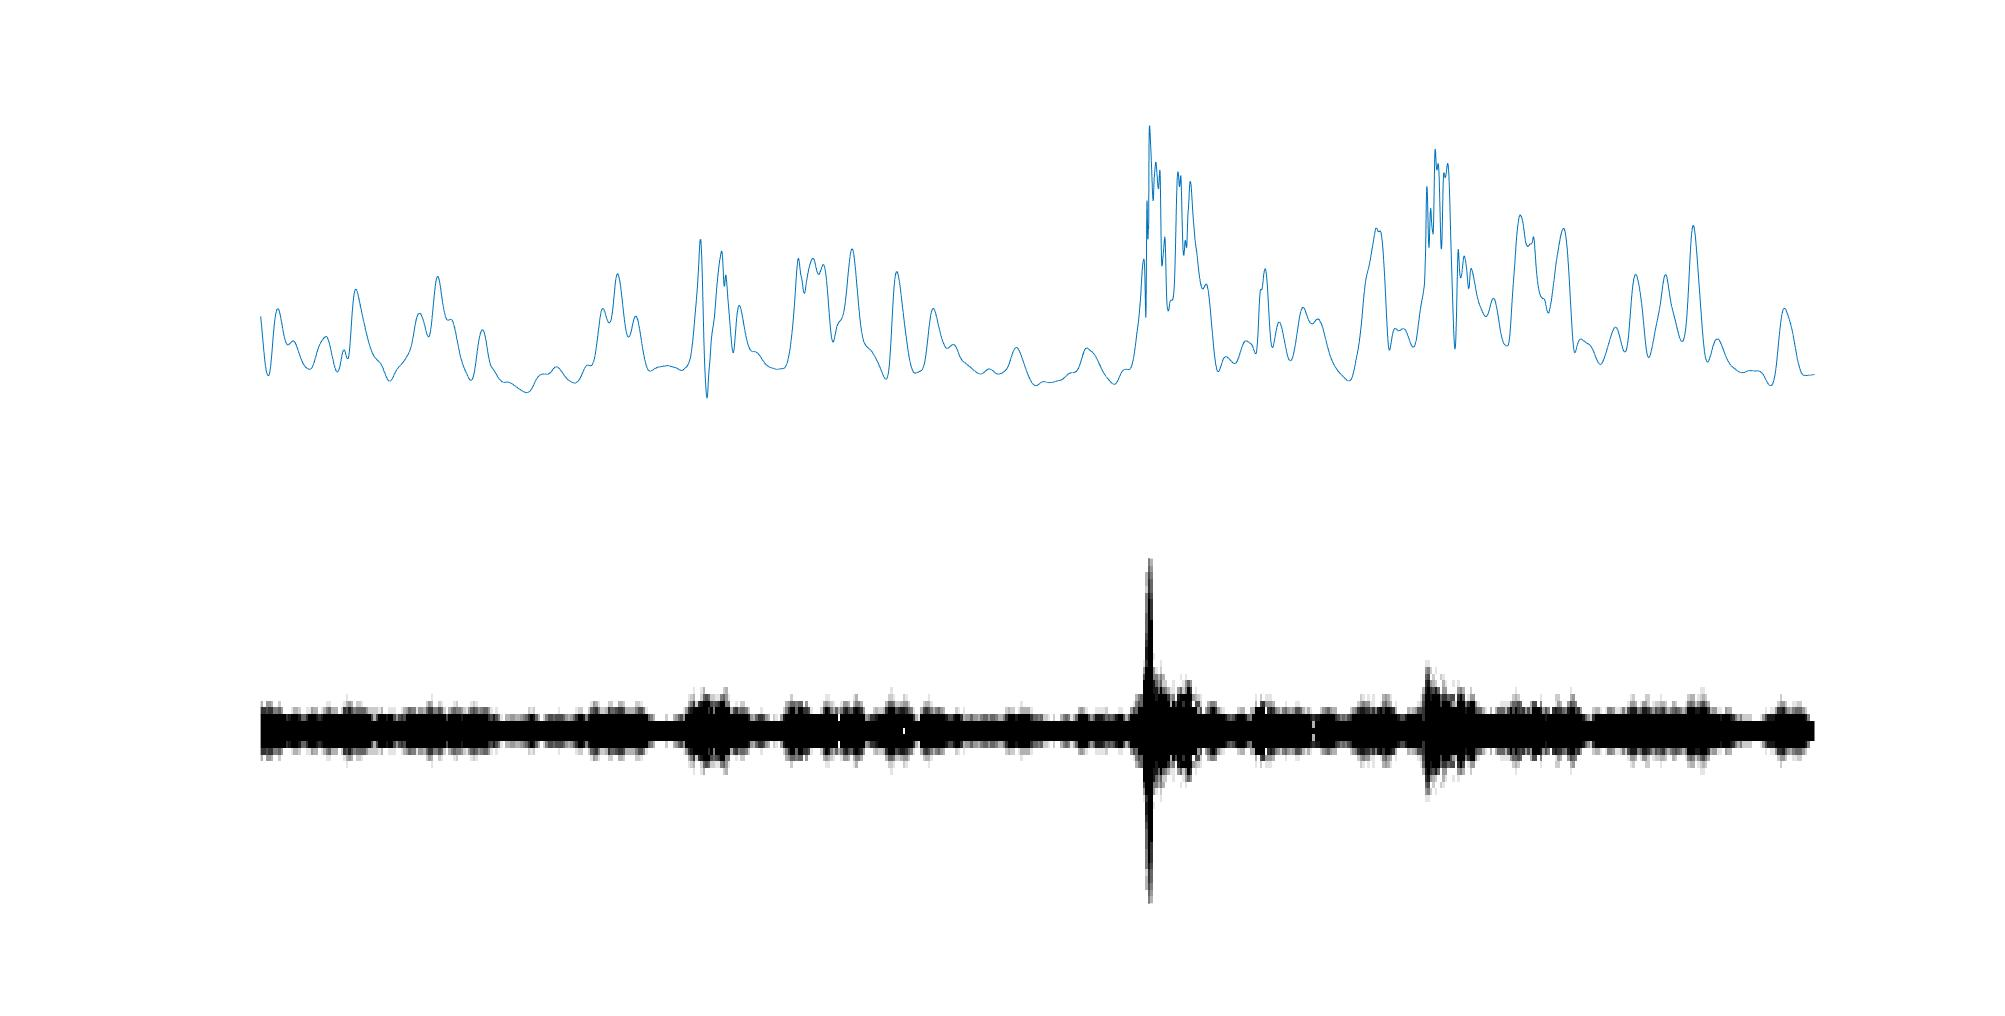kangaroo: (1136, 560, 1170, 908)
